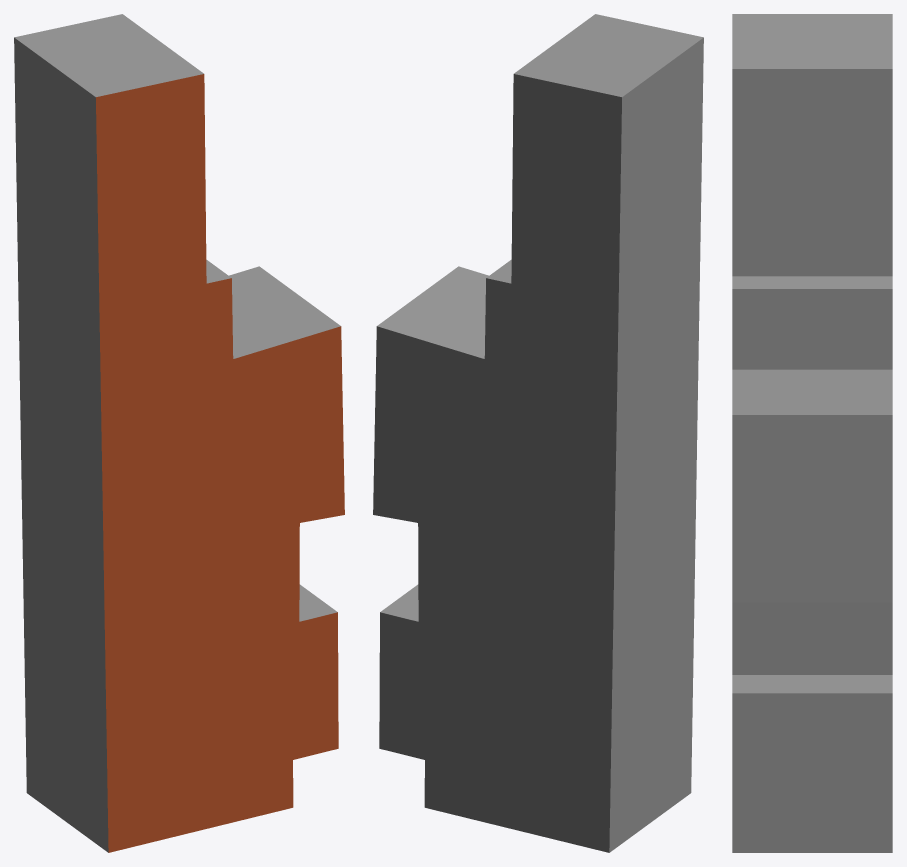
Rendered from construction_2685_assumed_A_Casa_h6m.obj.
3 renders of one model, left to right at view 1: azimuth 30°, elevation 25°; view 2: azimuth 150°, elevation 25°; view 3: azimuth 270°, elevation 25°, orthographic.
Parts seen in each view (by area): view 1: construction_2685_assumed_A_Casa; view 2: construction_2685_assumed_A_Casa; view 3: construction_2685_assumed_A_Casa.
Boxes of the visible parts, x1,y1,x2,y2 form: construction_2685_assumed_A_Casa: (14,14,344,852); construction_2685_assumed_A_Casa: (373,14,703,852); construction_2685_assumed_A_Casa: (732,14,892,852).
Bounding box in the file's own units: 10.55 × 30.7 × 6.
